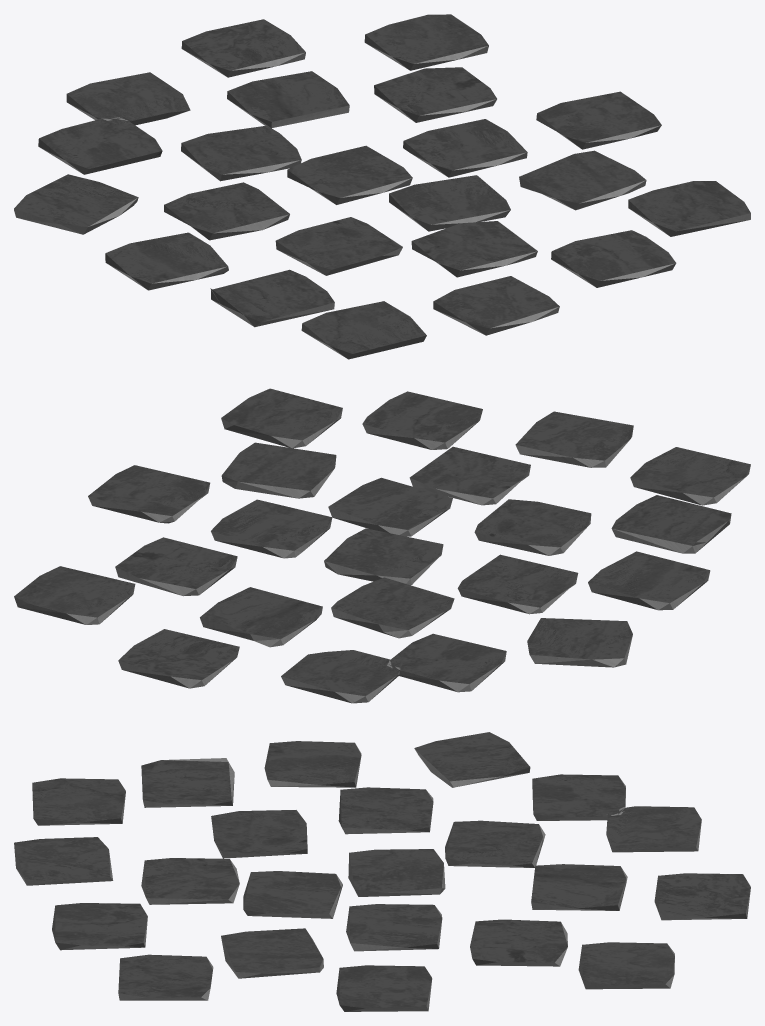
File: ROCK D LOD.fbx
3 views of the same model, one above another, from view 1: azimuth 30°, elevation 25°; view 2: azimuth 150°, elevation 25°; view 3: azimuth 270°, elevation 25° (orthographic). The views are drawn at different scales.
Parts seen in each view (by area): view 1: ROCK D LOD; view 2: ROCK D LOD; view 3: ROCK D LOD.
Part boxes in pixels (x1=…): ROCK D LOD: x1=14, y1=14, x2=750, y2=359; ROCK D LOD: x1=14, y1=388, x2=750, y2=703; ROCK D LOD: x1=14, y1=732, x2=750, y2=1011.
Size of the model in its own units: 5.07 by 0.109 by 5.72.
